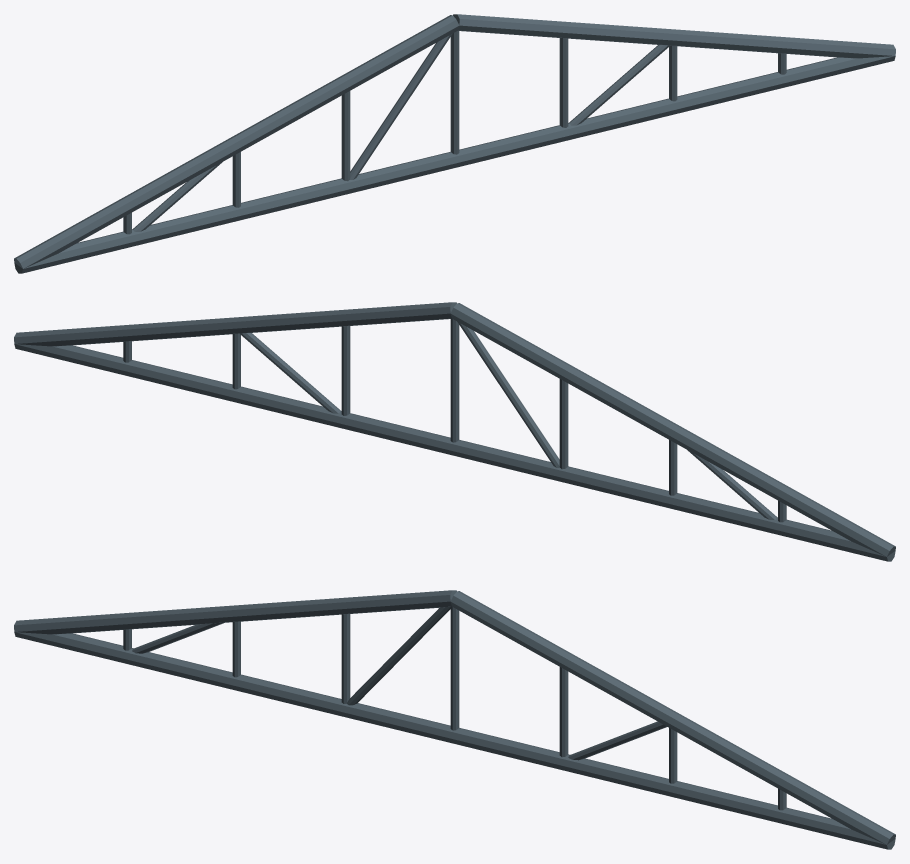
Rendered from american-football-stadium-kit-roof-truss-85066513__22360.glb.
3 renders of one model, top to bottom at view 1: azimuth 30°, elevation 25°; view 2: azimuth 150°, elevation 25°; view 3: azimuth 330°, elevation 25°, orthographic.
Parts seen in each view (by area): view 1: roof-truss; view 2: roof-truss; view 3: roof-truss.
Boxes of the visible parts, bbox=[...] form: roof-truss: bbox=[14, 14, 895, 273]; roof-truss: bbox=[14, 302, 895, 561]; roof-truss: bbox=[14, 590, 895, 849].
Bounding box in the file's own units: 8.04 × 1.34 × 0.1404.
